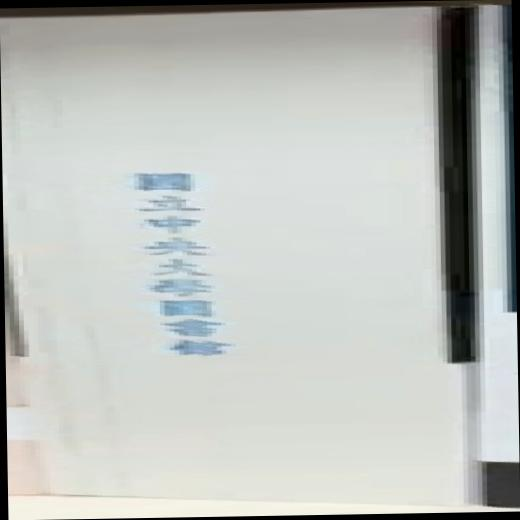backward: (1, 1, 516, 520)
